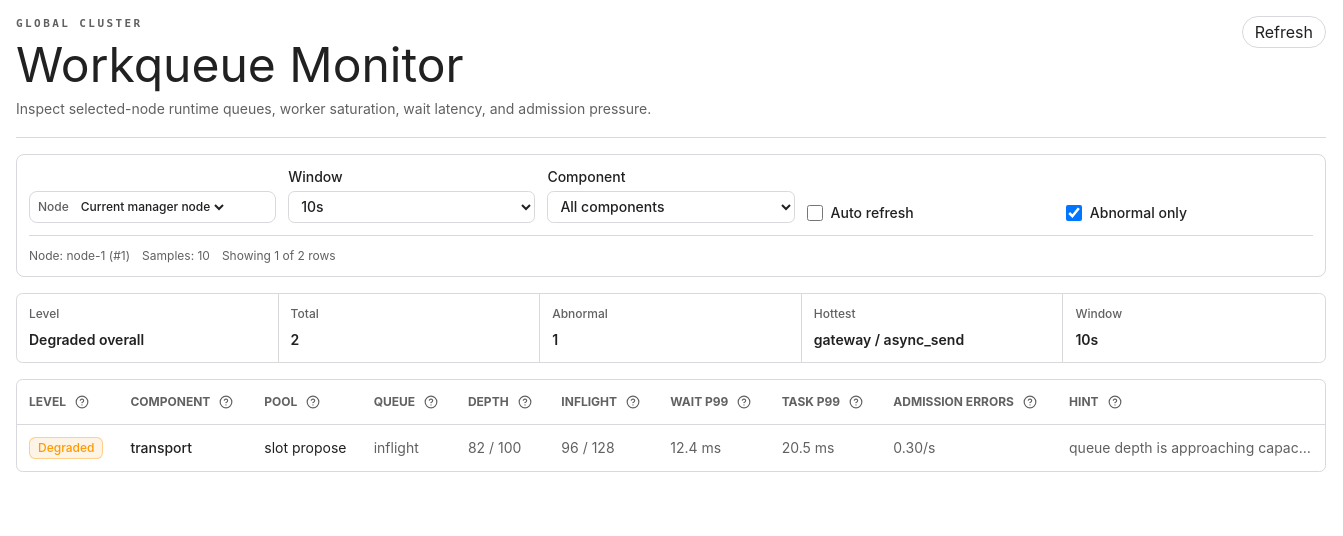
Test: renders API-provided operator-facing service labels
Check: the text "slot propose" is shown, box top-left (252, 424), bottom-right (362, 470)
Check: the text "inflight" is shown, box top-left (362, 424), bottom-right (456, 470)
Click the checkbox labelled "Abnormal only" at (1074, 212), box top-left (1066, 204), bottom-right (1082, 220)
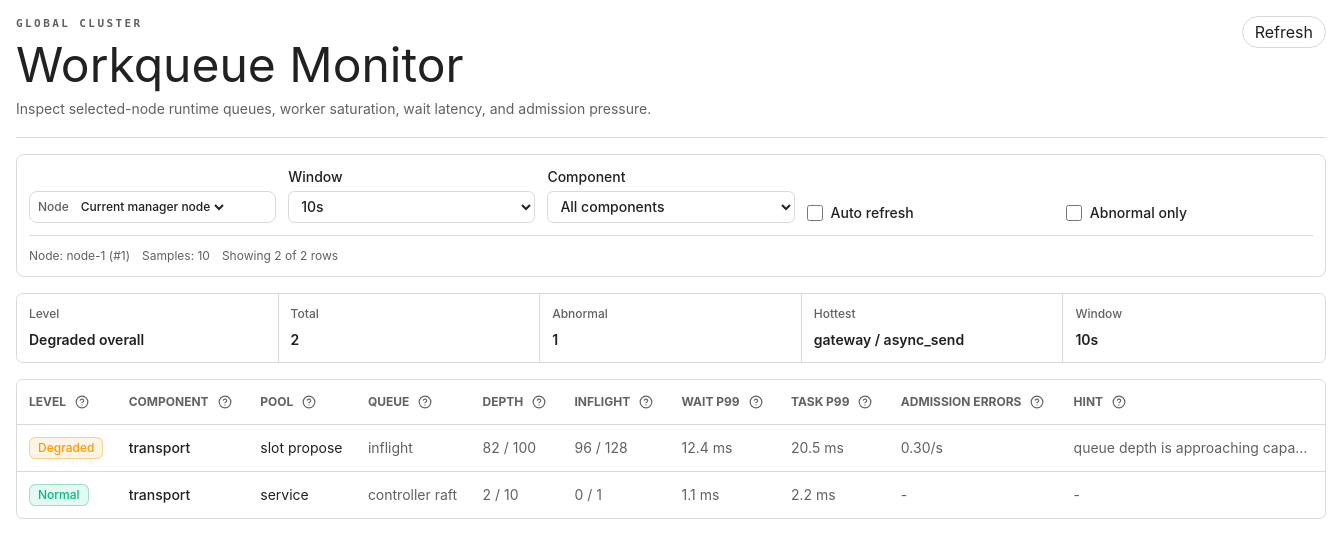
Check: the text "service" is shown, box top-left (248, 471), bottom-right (356, 518)
Check: the text "controller raft" is shown, box top-left (356, 471), bottom-right (471, 518)
